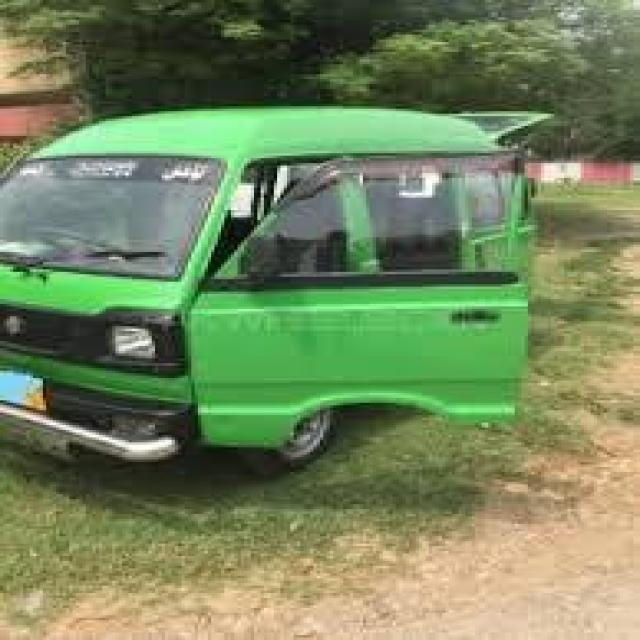Van: (0, 109, 534, 482)
